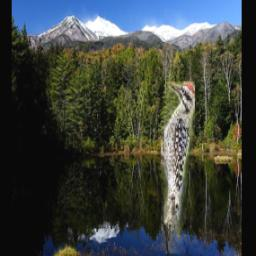Woodpecker: (161, 81, 195, 254)
